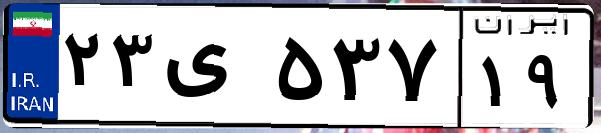1: (475, 38, 525, 113)
2: (57, 26, 110, 100)
3: (330, 28, 385, 110), (110, 28, 158, 98)
5: (270, 28, 330, 110)
7: (385, 28, 445, 110)
9: (525, 38, 570, 115)
ی: (158, 20, 270, 120)
